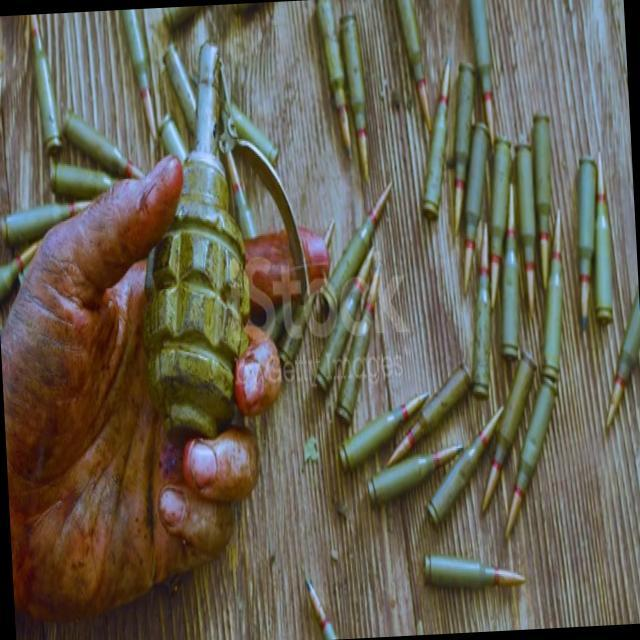grenade: (128, 43, 258, 441)
